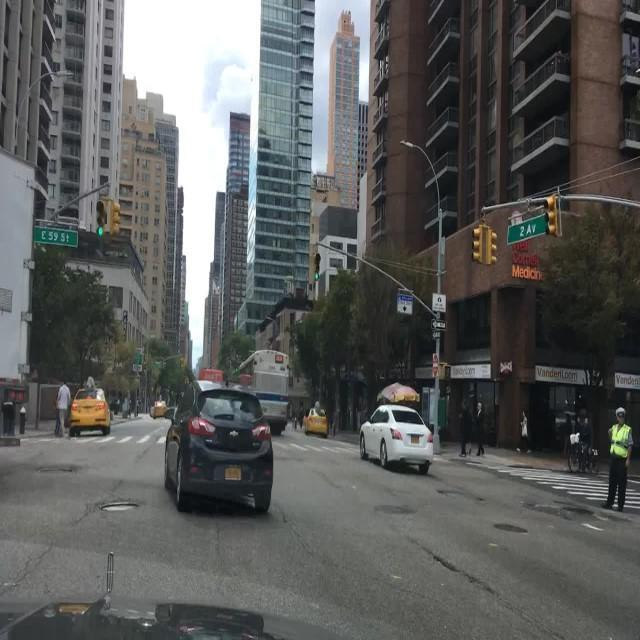normal: (162, 382, 275, 512), (360, 405, 436, 472), (66, 395, 111, 436)
